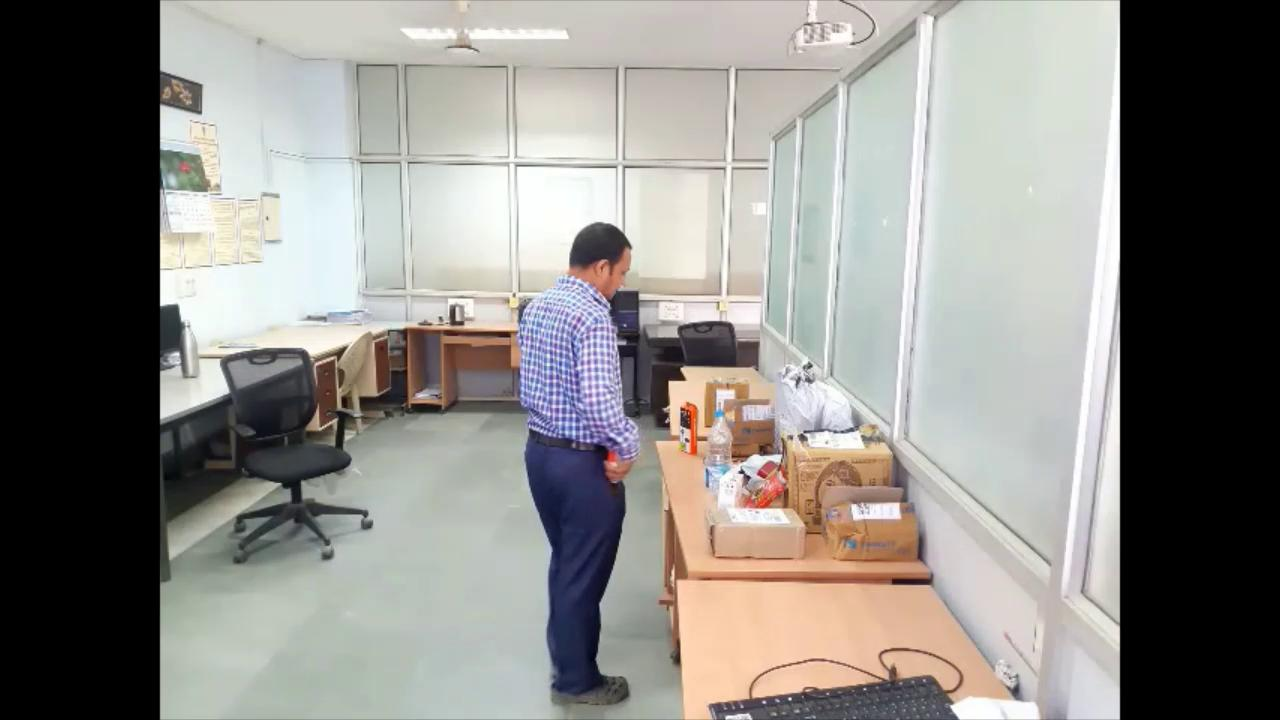shoplifting: (505, 220, 650, 720)
